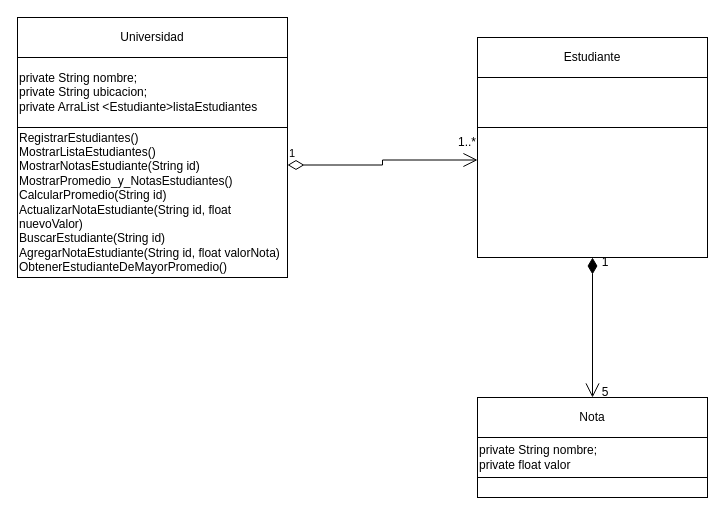
Some shapes in this 725 by 515 pixel diagram are drawn without their labels. The centre of each missing label's shape, as x and y in pixels:
"ActualizarNota() AgregarNota() MostrarNotas() CalcularPromedio()" belongs at (592,192).
"private String nombre private String id; private ArrayList<Nota>listaDeNotas;" belongs at (592,102).
